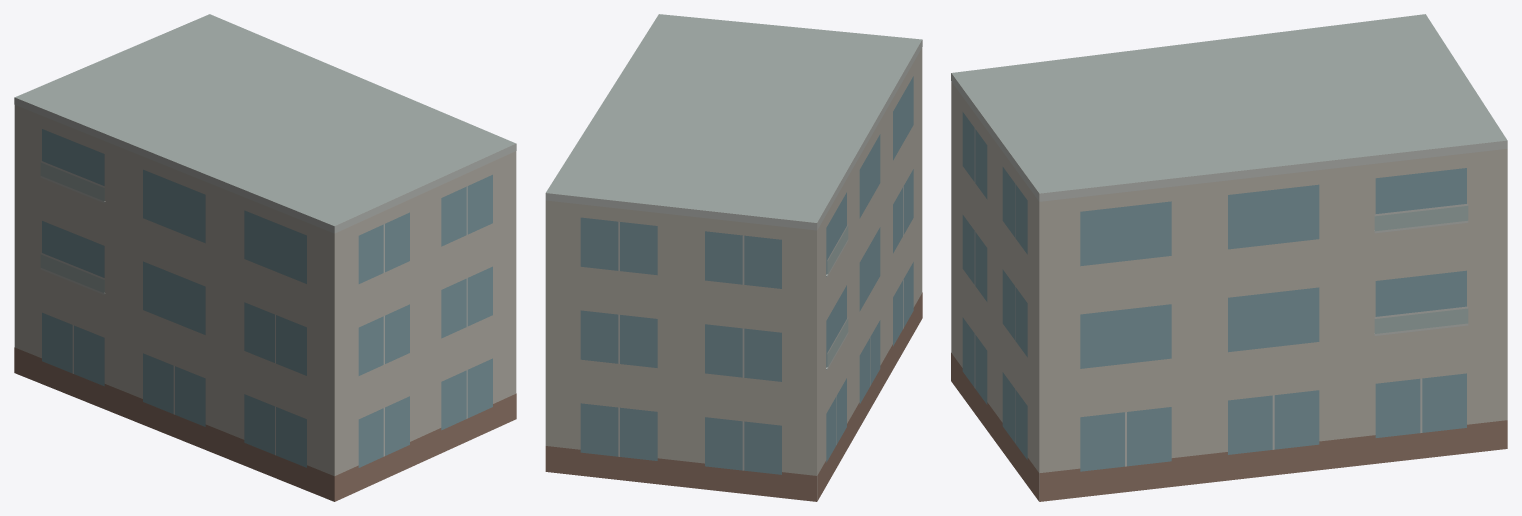
File: survey-upis-32640694.glb
The picture shows the model from 3 angles, left to right: view 1: azimuth 30°, elevation 25°; view 2: azimuth 150°, elevation 25°; view 3: azimuth 270°, elevation 25°; orthographic projection. The views are drawn at different scales.
Parts seen in each view (by area): view 1: survey-upis-32640694.tmp; view 2: survey-upis-32640694.tmp; view 3: survey-upis-32640694.tmp.
Part boxes in pixels (<box>): survey-upis-32640694.tmp: <box>14,14,516,501</box>; survey-upis-32640694.tmp: <box>545,14,922,501</box>; survey-upis-32640694.tmp: <box>951,14,1507,501</box>.
Bounding box in the file's own units: 11.44 × 9.15 × 14.98.
